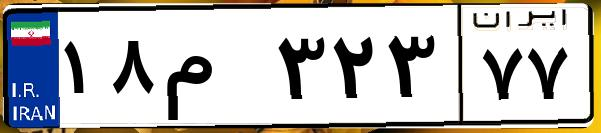1: (57, 26, 110, 100)
2: (330, 28, 385, 110)
3: (270, 28, 330, 110), (385, 28, 445, 110)
7: (475, 38, 525, 113), (525, 38, 570, 115)
8: (110, 28, 158, 98)
م: (158, 20, 270, 120)
